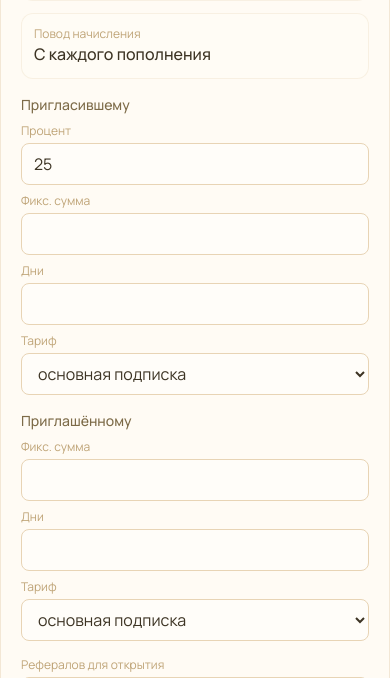
Test: отказы больше не молчат › отрицательное значение не сохраняется
This screenshot has width=390, height=678.
(page scrolled)
In the field labelled "Дни" below "Процент": (195, 304) left=21, top=283, right=369, bottom=325, type "-5"
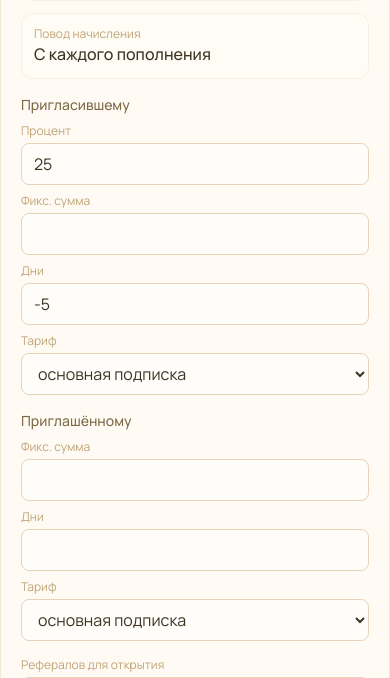
Leave the field labelled "Дни" below "Процент", box left=21, top=283, right=369, bottom=325
(page scrolled)
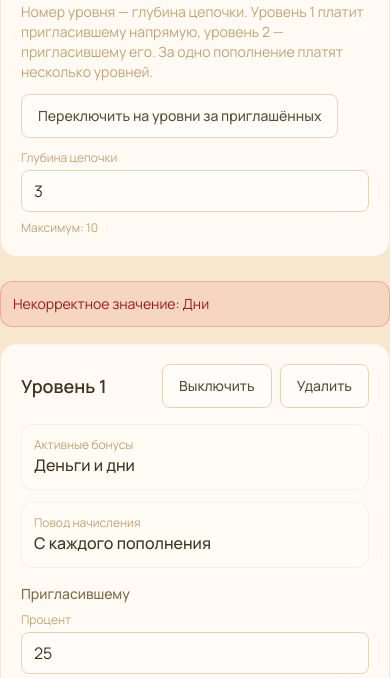
Check: the text "Некорректное значение: Дни" is shown, box left=0, top=281, right=389, bottom=327
